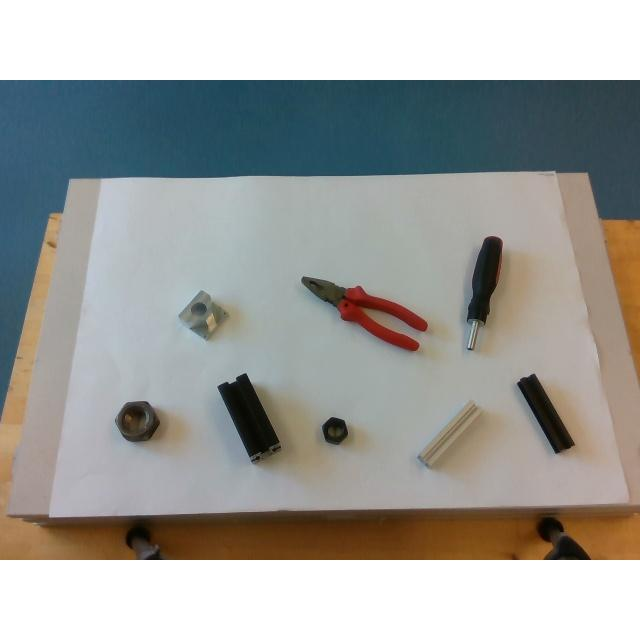F20_20_B: (517, 373, 573, 453)
F20_20_G: (418, 402, 480, 466)
M20: (322, 416, 348, 444)
M30: (114, 401, 158, 441)
S40_40_B: (218, 373, 280, 463)
